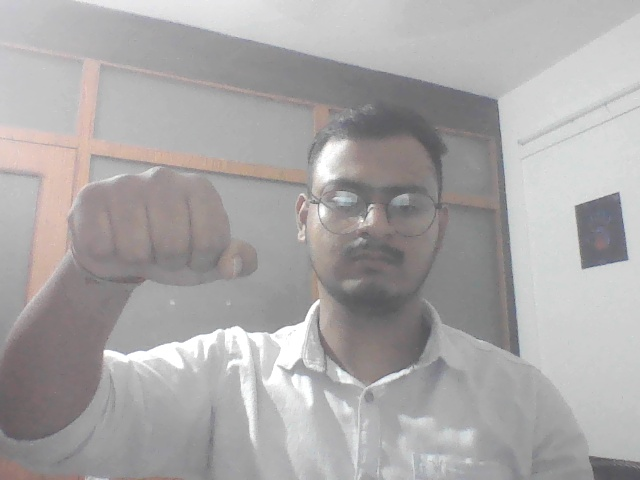YES: (64, 162, 266, 303)
